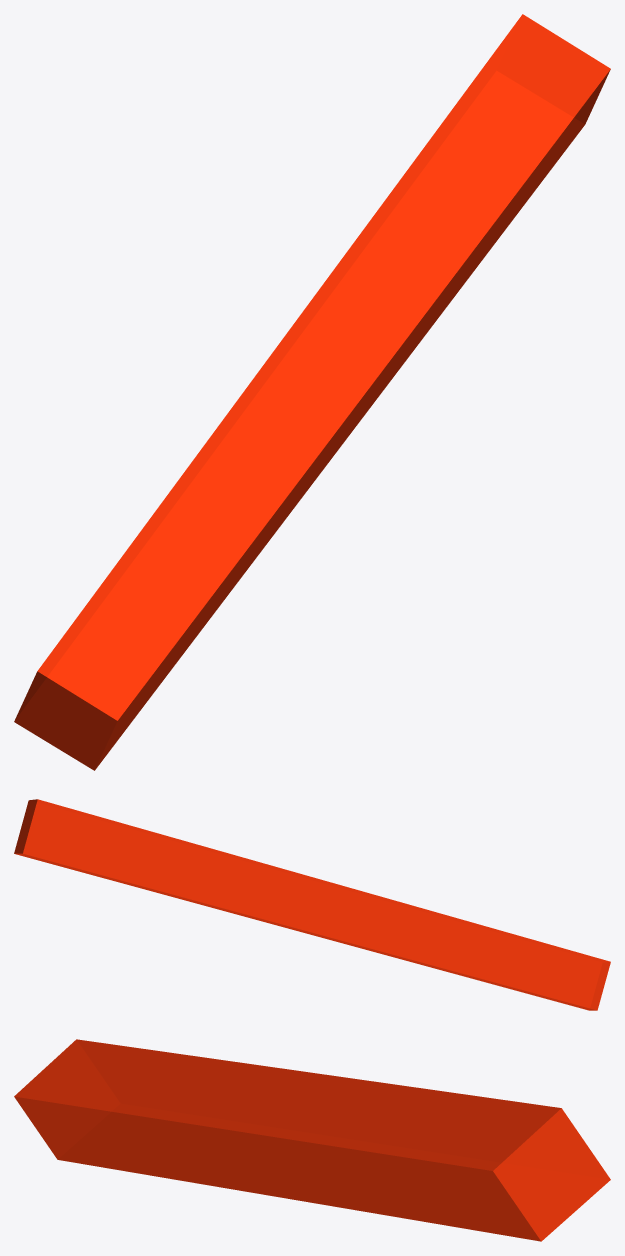
The model's file is Event_421115418_EBrechit_50.fbx.
3 views of the same model, one above another, from view 1: azimuth 30°, elevation 25°; view 2: azimuth 150°, elevation 25°; view 3: azimuth 270°, elevation 25° (orthographic). The views are drawn at different scales.
Visible parts, largest first — view 1: Model; view 2: Model; view 3: Model.
Boxes of the visible parts, box(x1,y1,x2,y2) form: Model: box(14, 14, 610, 770); Model: box(14, 799, 610, 1010); Model: box(14, 1039, 610, 1241).
Size of the model in its own units: 0.5838 by 0.2765 by 0.4012.
